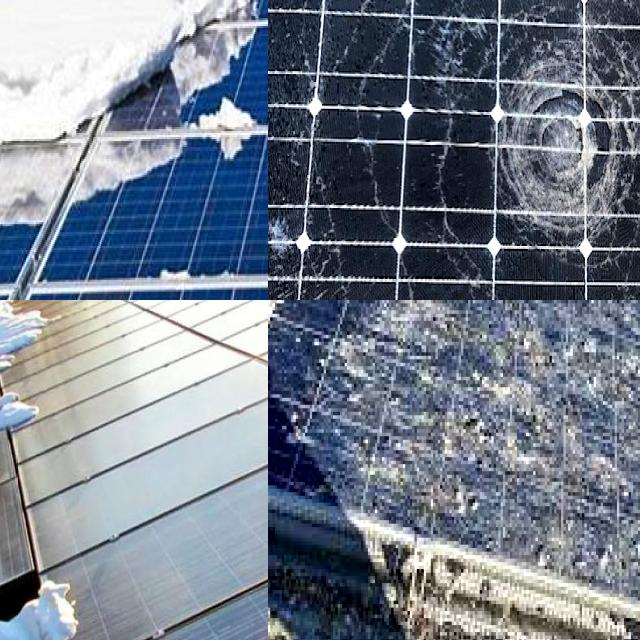bird: (362, 300, 517, 415), (334, 437, 486, 522), (507, 488, 631, 566), (530, 300, 640, 380), (268, 339, 342, 452), (341, 300, 437, 352)
hotspot: (486, 30, 640, 254)
panel: (102, 60, 234, 164), (4, 104, 81, 186), (150, 0, 268, 46), (203, 90, 268, 166), (0, 300, 58, 381), (0, 96, 46, 190), (45, 110, 108, 174), (44, 0, 152, 36), (44, 557, 84, 640), (0, 399, 62, 451), (146, 252, 211, 300), (0, 450, 45, 507), (0, 112, 37, 179), (0, 513, 42, 571), (0, 109, 38, 173), (0, 317, 23, 409), (0, 117, 30, 176), (0, 112, 29, 171), (0, 0, 60, 28), (0, 597, 34, 640), (0, 0, 45, 25), (0, 0, 43, 24), (0, 0, 30, 19)
